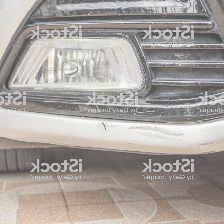bumper_scratch: (66, 103, 202, 155)
